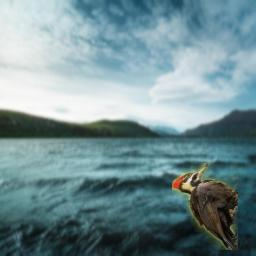Woodpecker: (172, 163, 238, 250)
